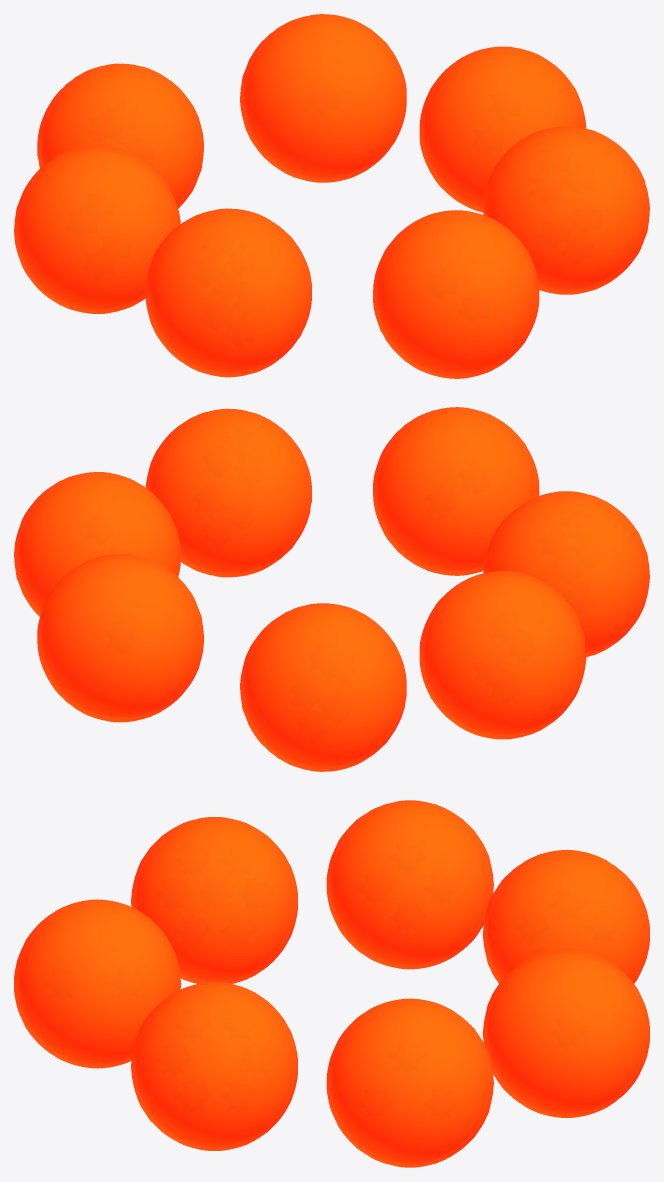
Rendered from esferas_del_dragon-transformed.glb.
3 renders of one model, top to bottom at view 1: azimuth 30°, elevation 25°; view 2: azimuth 150°, elevation 25°; view 3: azimuth 270°, elevation 25°, orthographic.
Parts seen in each view (by area): view 1: Object_4; view 2: Object_4; view 3: Object_4.
Boxes of the visible parts, left/top/right/bottom form: Object_4: left=14, top=14, right=649, bottom=378; Object_4: left=14, top=407, right=649, bottom=771; Object_4: left=14, top=800, right=649, bottom=1167.
Bounding box in the file's own units: 16.28 × 4.33 × 16.28.
